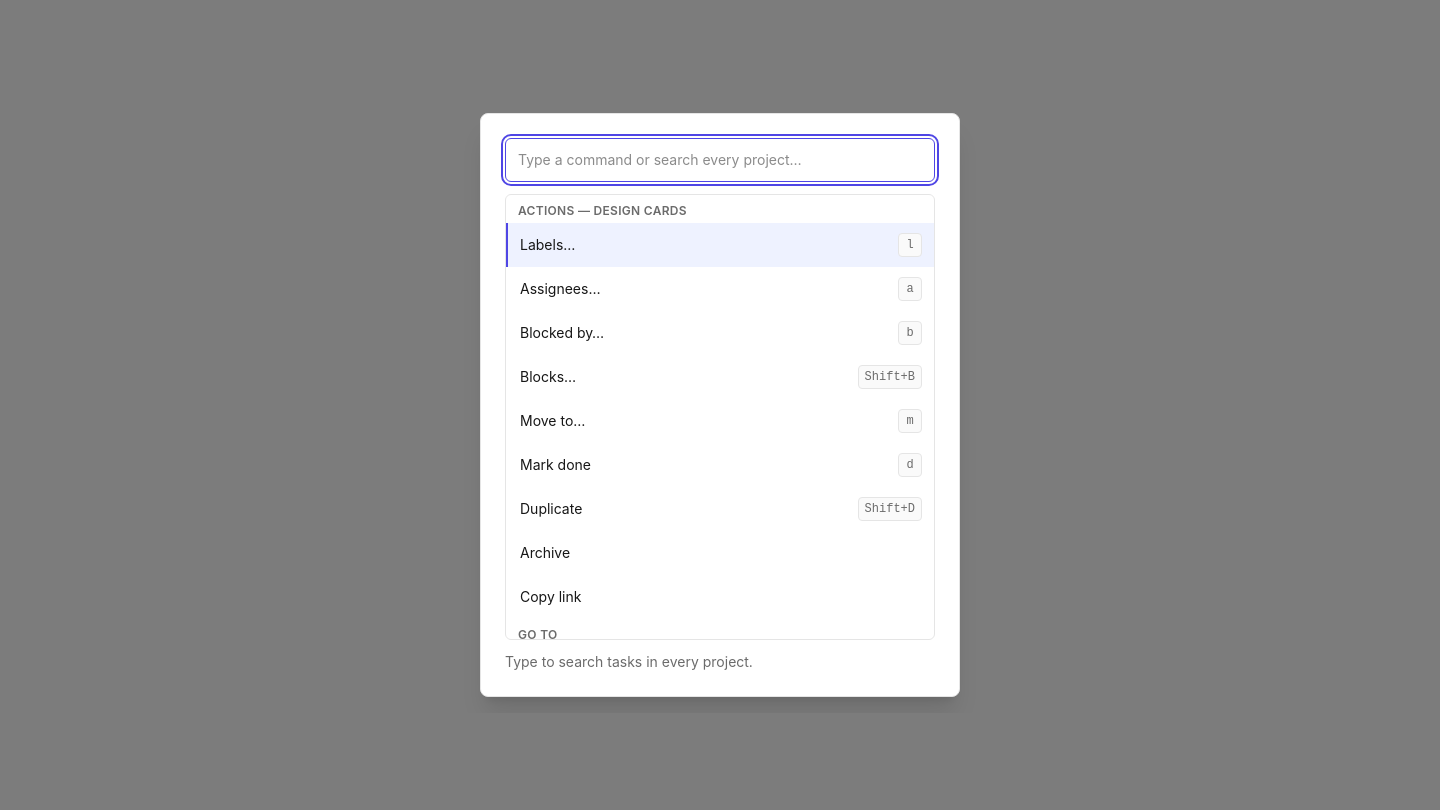
search › renders a failure, retries it, and keeps the local rows working meanwhile
Type "game" into the dropdown named "Command palette" at (720, 160), box [505, 138, 935, 182]
Wait 250 ms
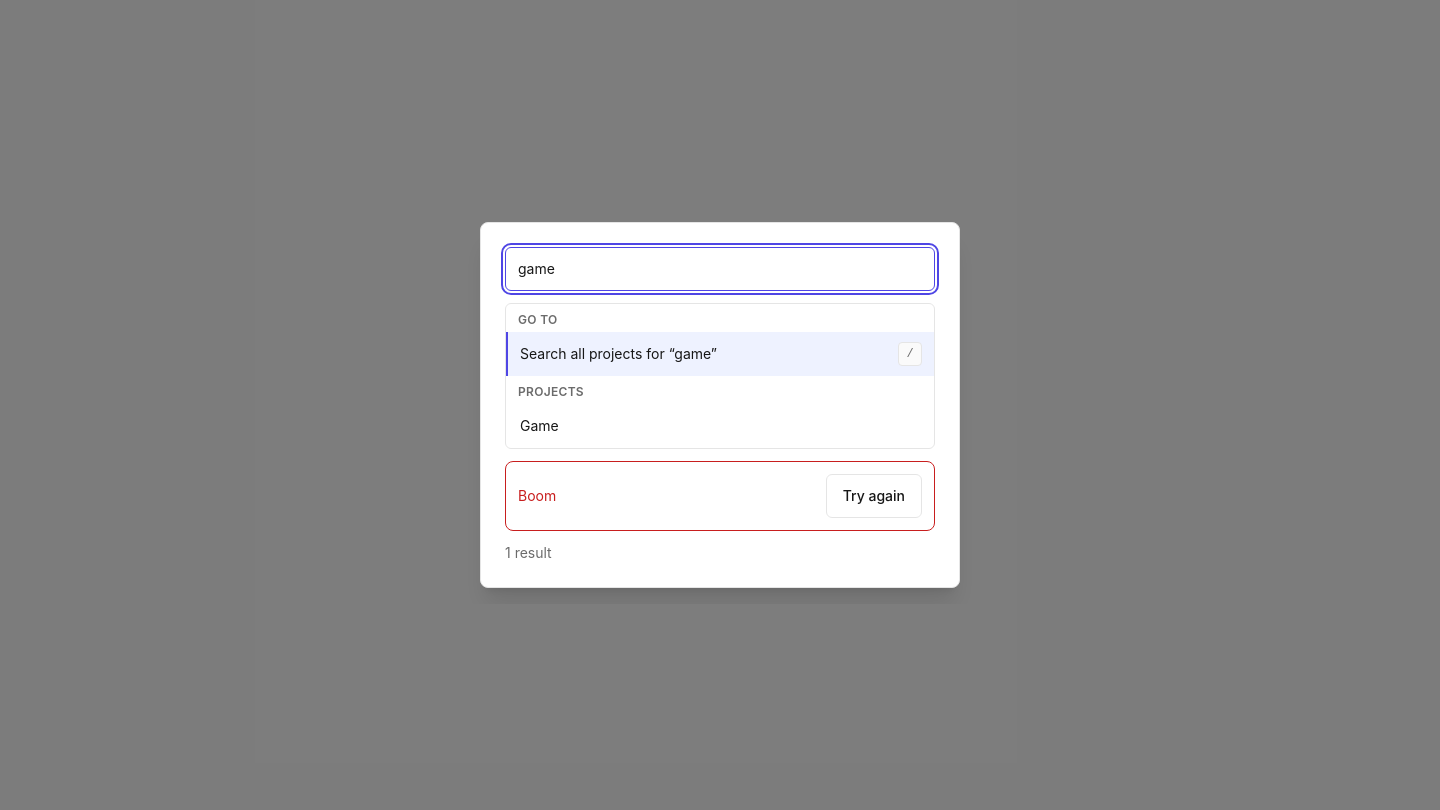
Check: the message "Boom Try again" is shown, box [505, 461, 935, 531]
Click the button "Try again" at (874, 496), box [826, 474, 922, 518]
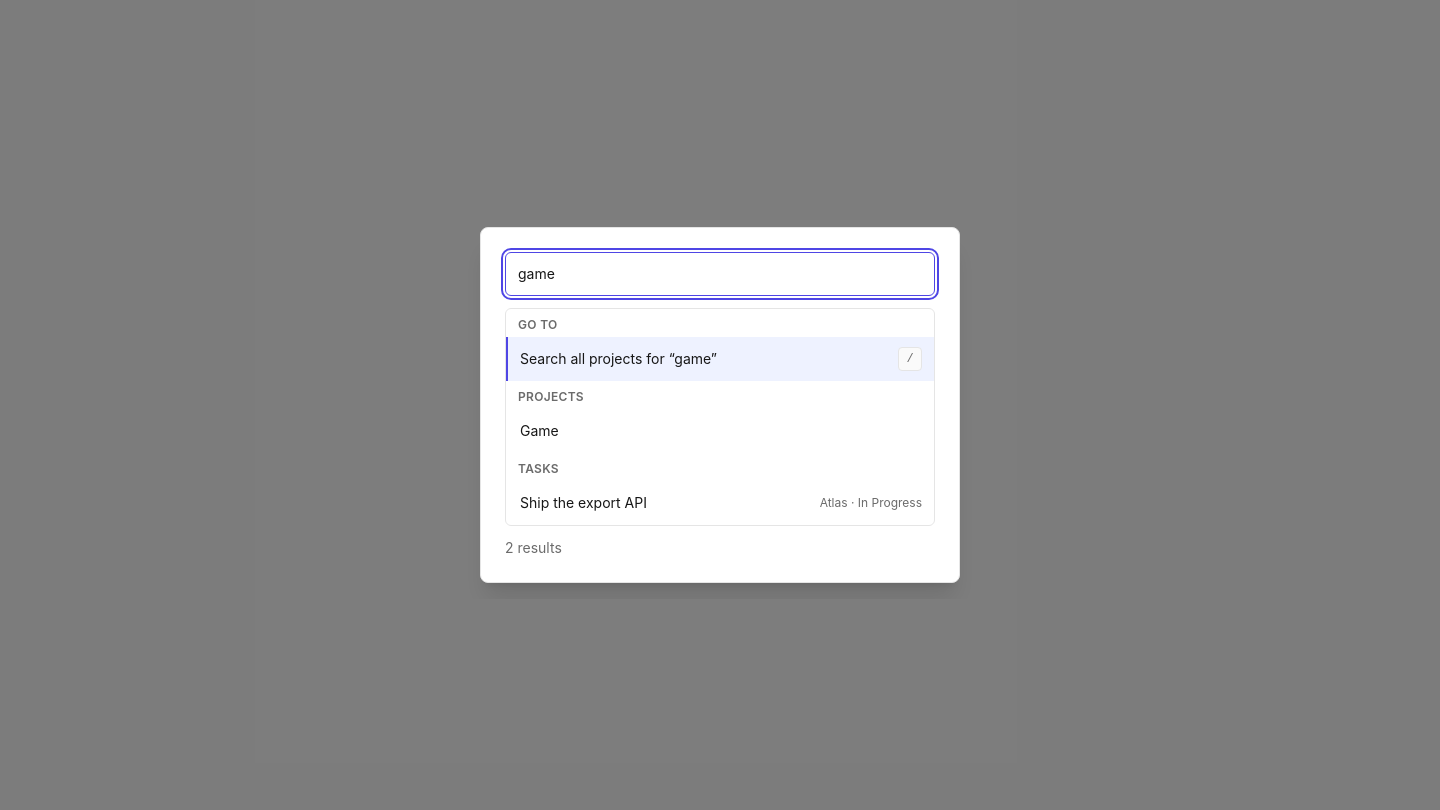
Check: the message "Boom Try again" is gone
